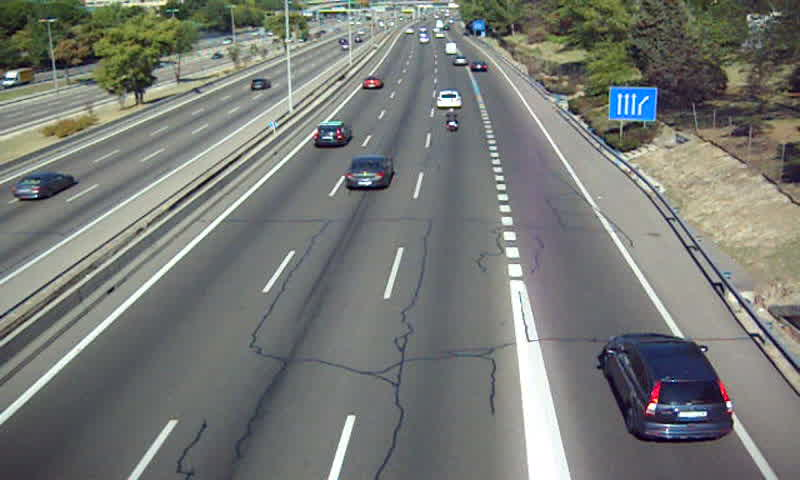car: (601, 333, 735, 441), (345, 155, 393, 190), (314, 121, 349, 144), (436, 90, 463, 109), (361, 76, 382, 91)
motorcycle: (444, 107, 461, 132)
